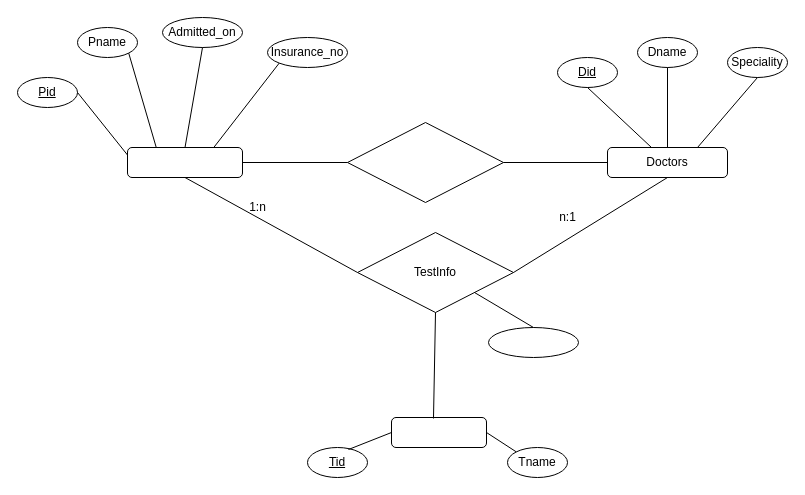
This 805x495 diagram has some shape labels left out. The centre of each missing label's shape, as x and y in pixels:
"Doctor_treats_patient" goes at pixel 425 162.
"Patients" goes at pixel 184 162.
"performed_on" goes at pixel 533 342.
"Tests" goes at pixel 438 432.
